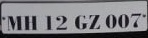character: (6, 15, 22, 31), (23, 14, 37, 31), (54, 14, 68, 31), (73, 13, 87, 30), (88, 13, 101, 30), (104, 13, 116, 29), (117, 13, 129, 29), (129, 12, 141, 28), (44, 14, 53, 31)
